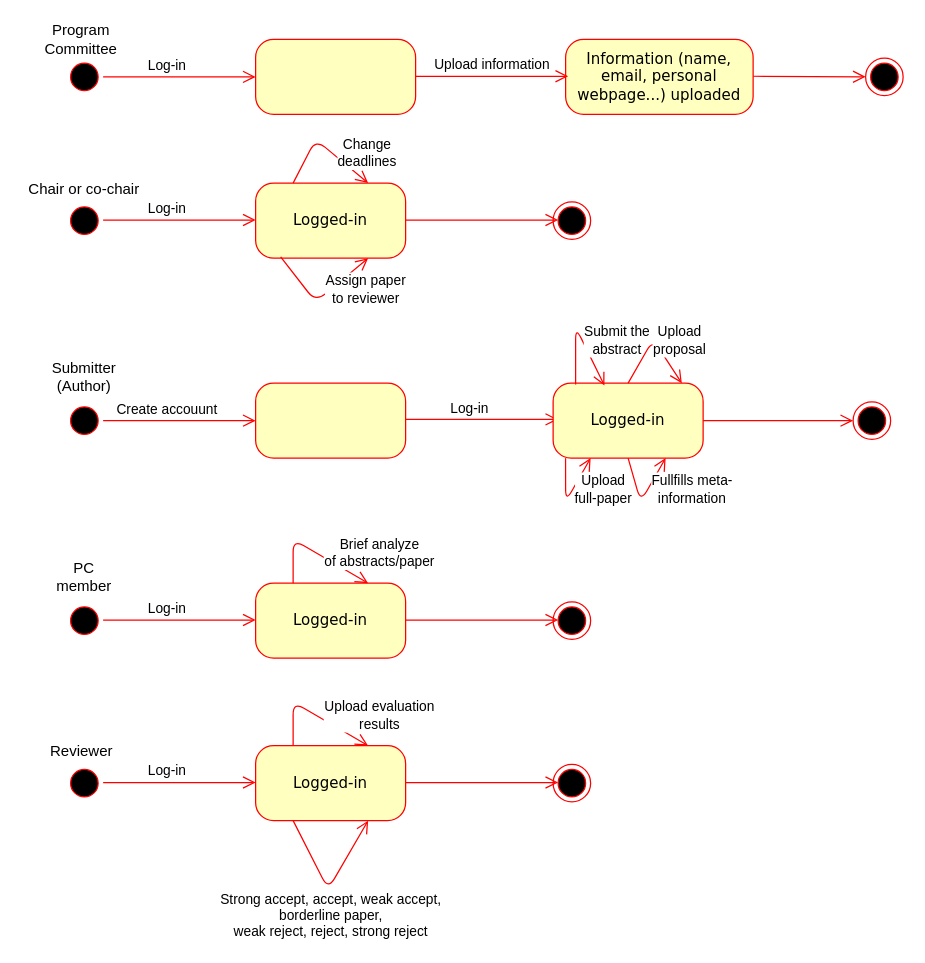
The diagram is 925 pixels wide and 963 high, and some of its shapes have lost their labels. The centre of each missing label's shape, as x and y in pixels:
"Account created, not logged-in" belongs at [330,420].
"Logged-in, no information upload" belongs at [335,76].
